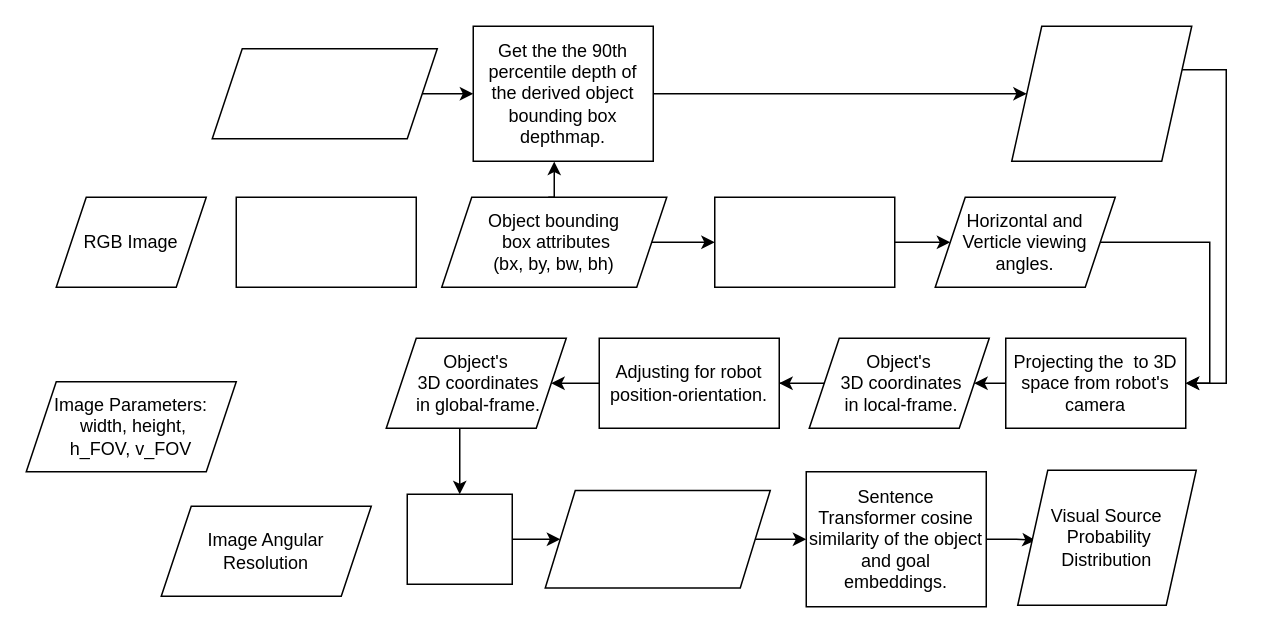
Some shapes in this 1265 by 633 pixel diagram are drawn without their labels. The centre of each missing label's shape, as x and y in pixels:
"Depth Image" goes at point 324,93.
"Find object viewing angle" goes at point 804,241.
"Goal-independent Visual Knowledge of the Environment" goes at point 657,538.
"Object's 3D displacement from the robot-frame." goes at point 1101,93.
"Recursive Update" goes at point 459,538.
"YOLO Object Detection" goes at point 325,241.
